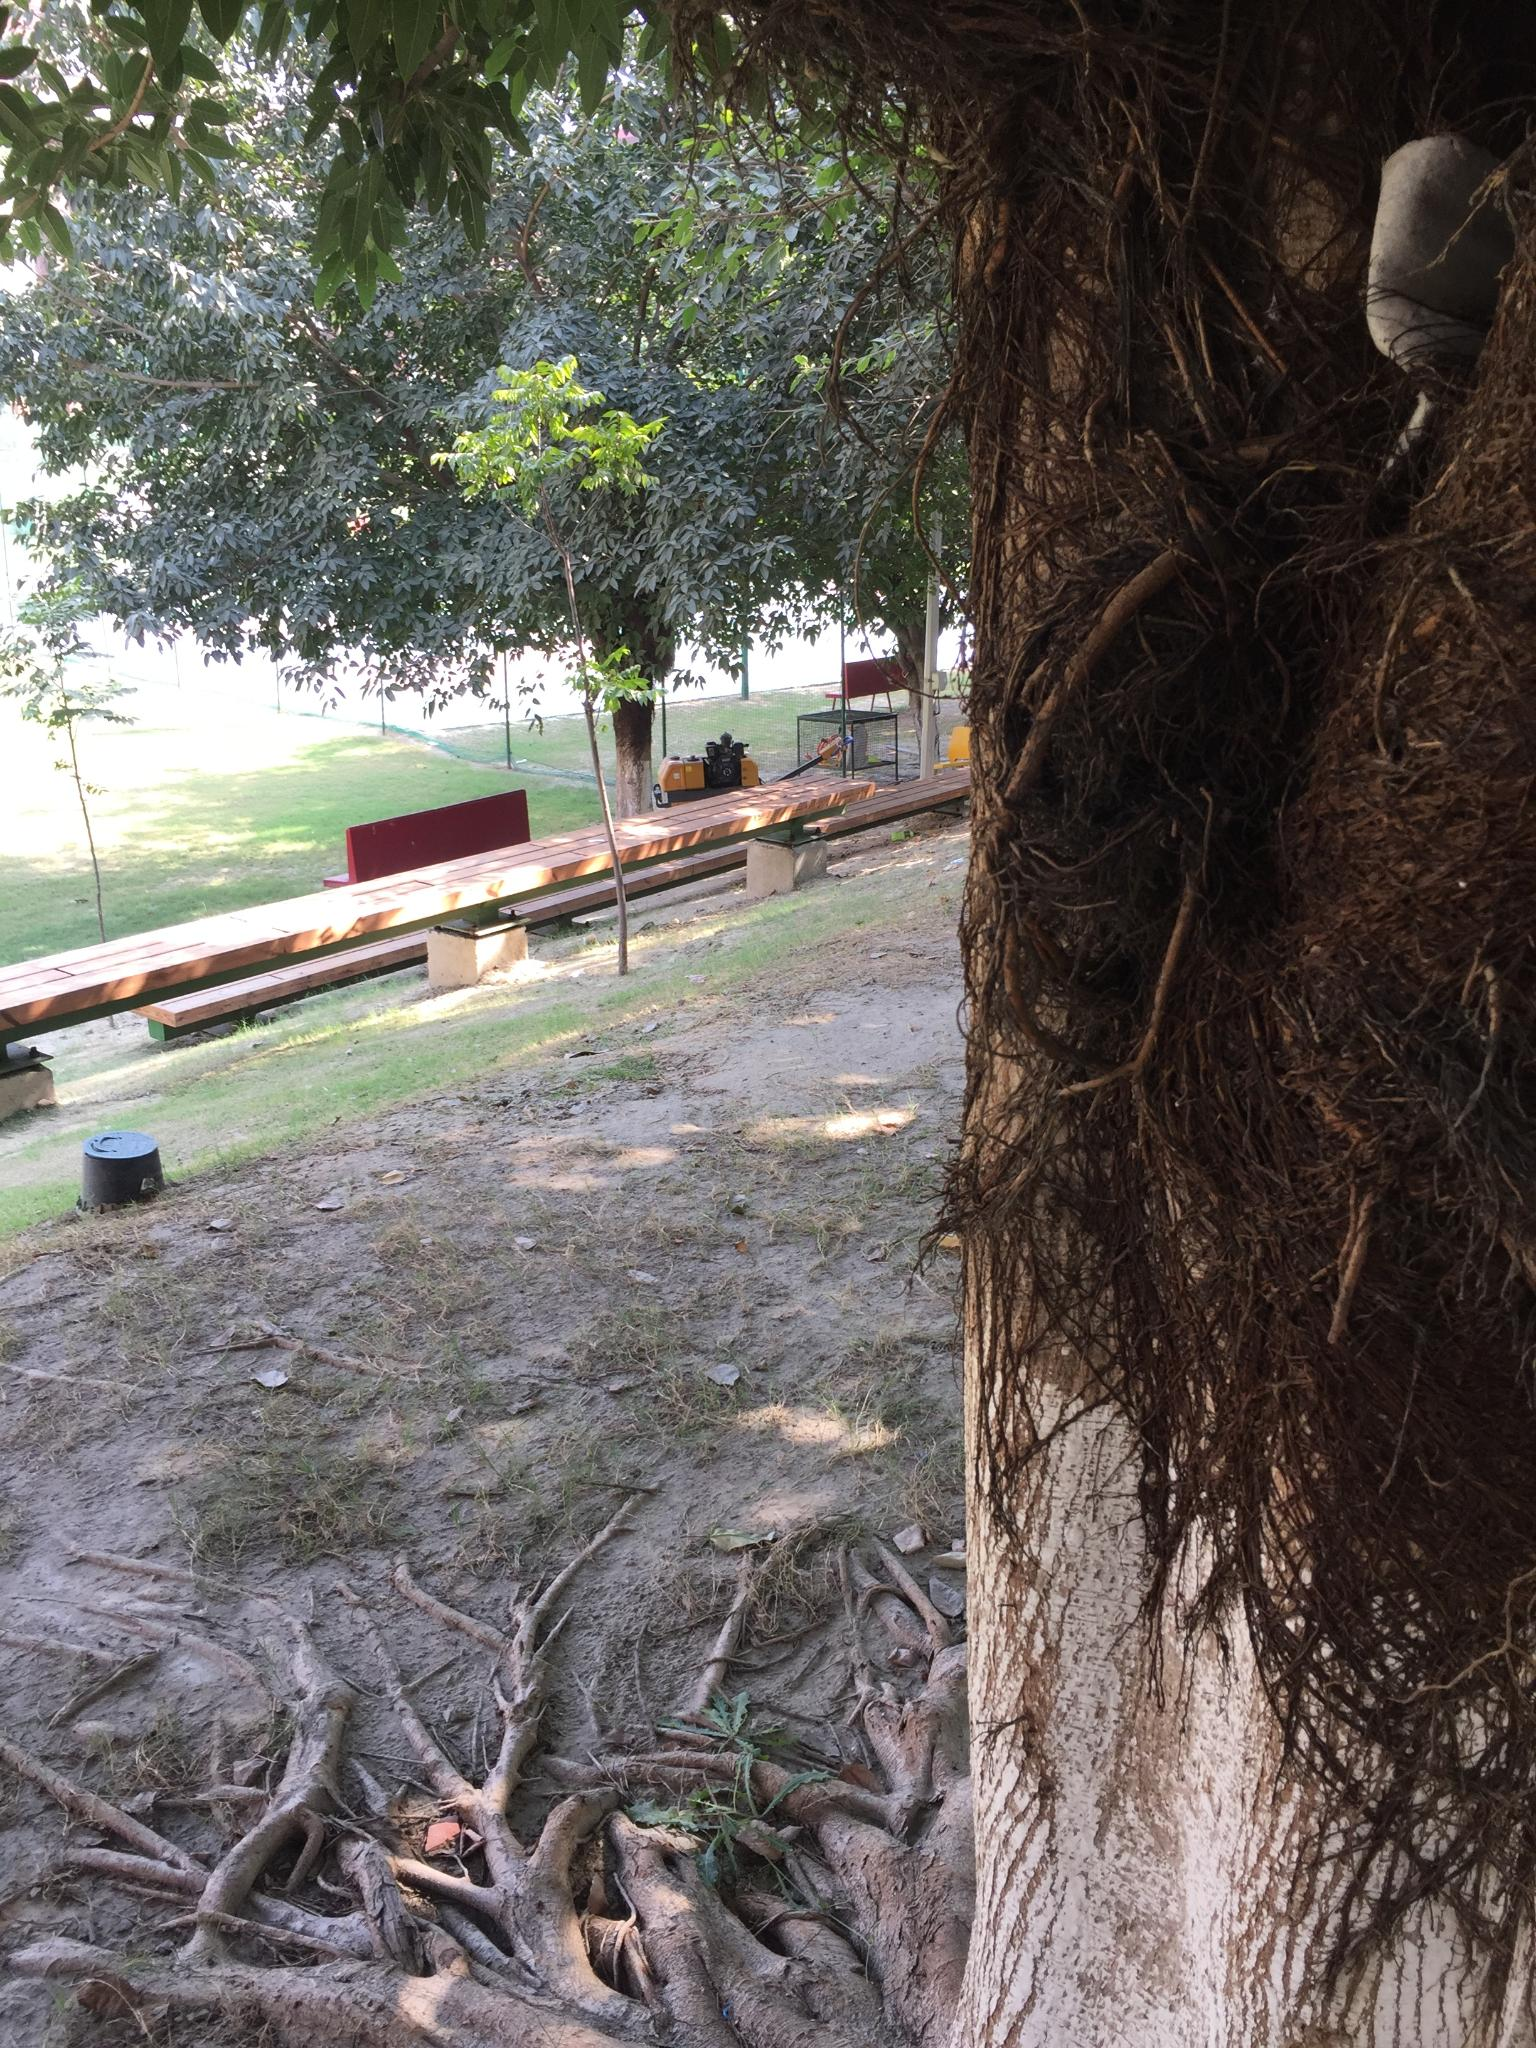chair: (936, 724, 989, 806)
